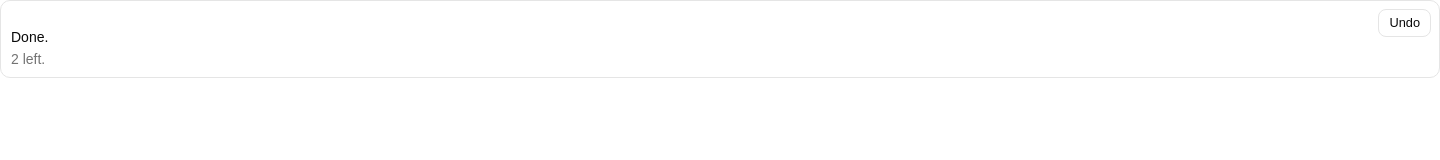
Test case: UndoNotice › reports a failed reversal (false) without claiming anything about the state, and allows a retry
Later steps or results of the test are not shown.
Click the button "Undo" at x=1405, y=23, box [1378,9,1431,37]
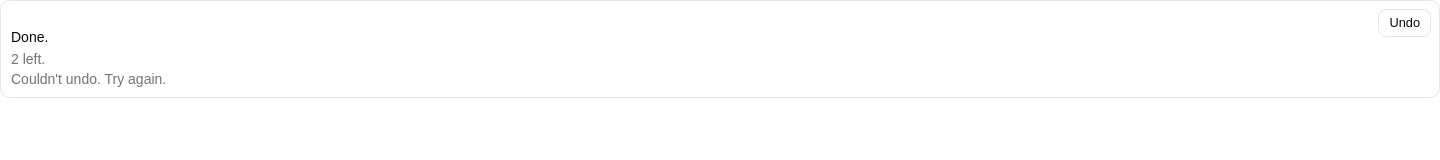
Now the text "Couldn't undo. Try again." is shown, box [11,71,166,87]
